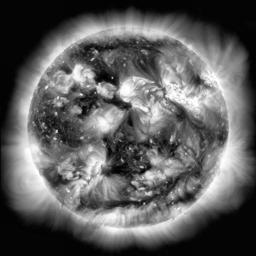solar flares: (93, 107, 120, 137), (81, 143, 101, 181), (100, 206, 142, 223), (160, 70, 180, 101), (120, 83, 145, 103), (143, 104, 162, 127), (75, 67, 93, 84), (65, 179, 86, 193), (183, 94, 194, 112), (97, 84, 110, 99), (202, 71, 214, 84), (146, 169, 158, 182)
sunspots: (48, 118, 77, 142), (89, 196, 145, 207), (137, 45, 153, 74), (113, 153, 136, 173), (92, 65, 114, 83), (107, 141, 132, 151), (48, 170, 64, 183), (87, 45, 110, 53), (79, 96, 91, 111), (157, 142, 171, 154), (180, 190, 192, 198), (128, 112, 133, 127), (218, 131, 225, 139)
